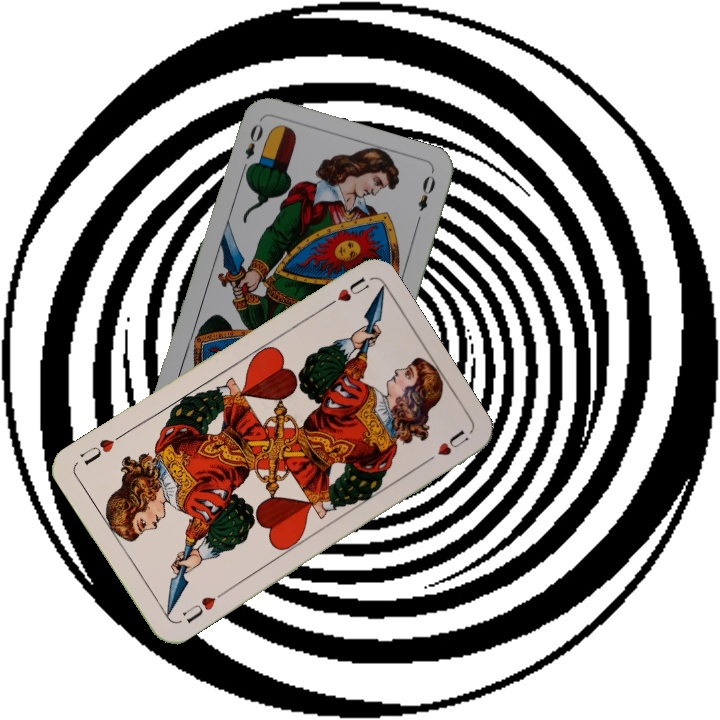EO: (237, 120, 266, 176)
HU: (318, 272, 372, 313), (178, 592, 218, 626)
